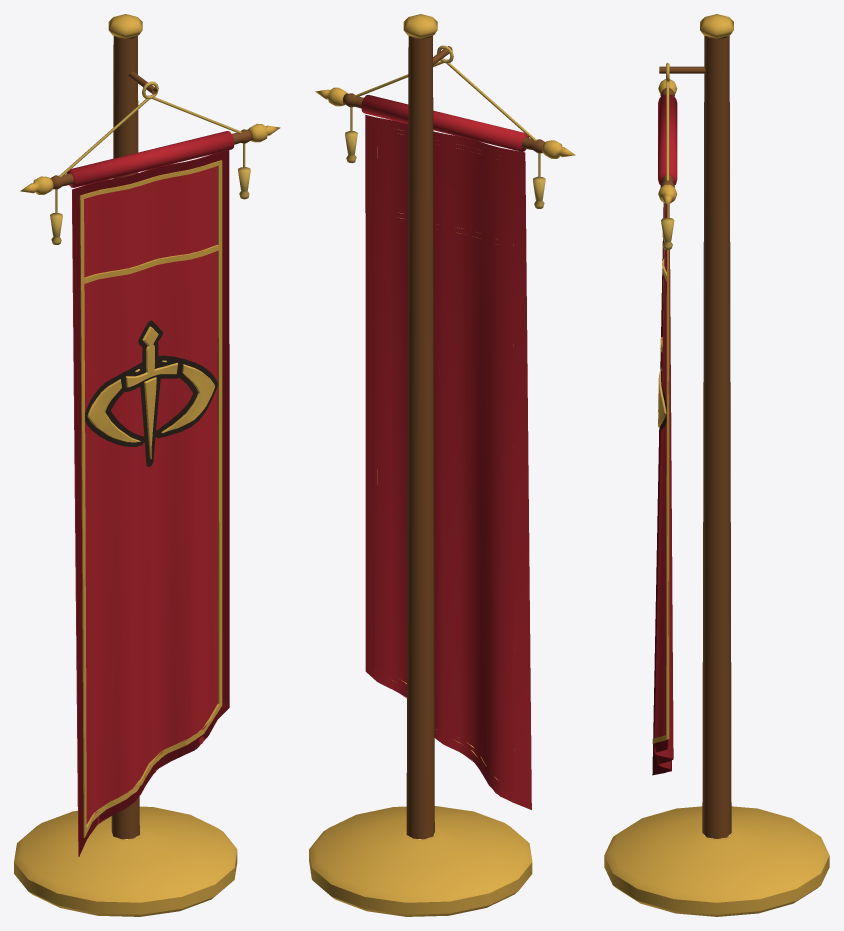
Rendered from km_gonfalon_underground-CTsftC4r.glb.
The picture shows the model from 3 angles, left to right: view 1: azimuth 30°, elevation 25°; view 2: azimuth 150°, elevation 25°; view 3: azimuth 270°, elevation 25°; orthographic projection.
Parts seen in each view (by area): view 1: underground_cloth, underground_stand_foot, underground_hem, underground_gold_trim, underground_stand_pole, underground_sigil_backing, underground_sigil_gold, underground_sleeve, underground_cord, underground_finials, underground_stand_knob, underground_tassels; view 2: underground_cloth, underground_stand_pole, underground_stand_foot, underground_sleeve, underground_cord, underground_finials, underground_stand_knob, underground_tassels; view 3: underground_stand_pole, underground_stand_foot, underground_cloth, underground_gold_trim, underground_sleeve, underground_hem, underground_stand_knob, underground_cord.
Boxes of the visible parts, x1,y1,x2,y2 form: underground_cloth: (72, 150, 226, 855); underground_stand_foot: (14, 806, 237, 916); underground_hem: (72, 150, 229, 856); underground_gold_trim: (79, 160, 222, 837); underground_stand_pole: (111, 35, 157, 839); underground_sigil_backing: (85, 320, 217, 466); underground_sigil_gold: (87, 326, 214, 459); underground_sleeve: (66, 131, 234, 187); underground_cord: (55, 81, 245, 213); underground_finials: (20, 123, 280, 194); underground_stand_knob: (108, 14, 142, 38); underground_tassels: (50, 167, 250, 244); underground_cloth: (365, 115, 531, 809); underground_stand_pole: (406, 35, 452, 839); underground_stand_foot: (309, 806, 532, 916); underground_sleeve: (361, 95, 529, 151); underground_cord: (350, 45, 540, 177); underground_finials: (315, 87, 575, 158); underground_stand_knob: (403, 14, 437, 38); underground_tassels: (345, 131, 545, 208); underground_stand_pole: (659, 35, 731, 838); underground_stand_foot: (604, 806, 829, 916); underground_cloth: (654, 203, 673, 771); underground_gold_trim: (652, 203, 669, 748); underground_sleeve: (658, 94, 677, 185); underground_hem: (652, 203, 672, 775); underground_stand_knob: (700, 14, 733, 38); underground_cord: (666, 62, 669, 218).
Bounding box in the file's own units: 0.107 × 0.335 × 0.08.
